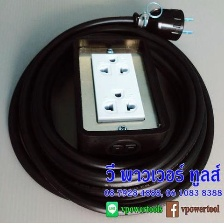three_eye_plug: (68, 29, 174, 165)
